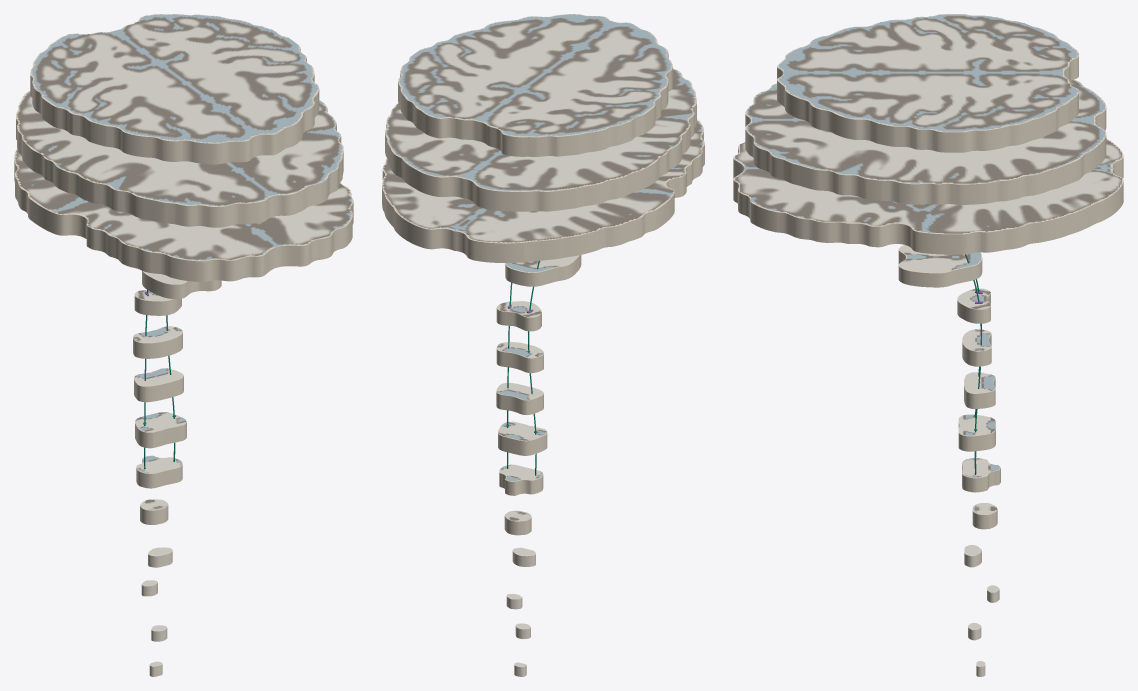
3 renders of one model, left to right at view 1: azimuth 30°, elevation 25°; view 2: azimuth 150°, elevation 25°; view 3: azimuth 270°, elevation 25°, orthographic. The views are drawn at different scales.
Visible parts, largest first — view 1: L15·切面（灰白质）, L14·切面（灰白质）, L13·切面（灰白质）, L13·背景·丘脑内囊, L14·背景·放射冠, L15·背景·皮质上部, L11·背景·下丘, L07·背景·橄榄中部, L09·背景·脑桥中部, L08·背景·脑桥下部, L06·背景·丘系交叉, L10·背景·脑桥上部 (+4 smaller); view 2: L15·切面（灰白质）, L14·切面（灰白质）, L13·切面（灰白质）, L13·背景·丘脑内囊, L14·背景·放射冠, L15·背景·皮质上部, L11·背景·下丘, L07·背景·橄榄中部, L09·背景·脑桥中部, L08·背景·脑桥下部, L10·背景·脑桥上部, L06·背景·丘系交叉 (+5 smaller); view 3: L15·切面（灰白质）, L14·切面（灰白质）, L13·切面（灰白质）, L13·背景·丘脑内囊, L14·背景·放射冠, L15·背景·皮质上部, L11·背景·下丘, L11·切面（灰白质）, L07·切面（灰白质）, L07·背景·橄榄中部, L06·背景·丘系交叉.
Boxes of the visible parts, bbox=[...] form: L15·切面（灰白质）: bbox=[31, 14, 318, 142]; L14·切面（灰白质）: bbox=[17, 91, 342, 206]; L13·切面（灰白质）: bbox=[15, 150, 352, 260]; L13·背景·丘脑内囊: bbox=[14, 148, 353, 281]; L14·背景·放射冠: bbox=[16, 91, 343, 227]; L15·背景·皮质上部: bbox=[30, 14, 319, 164]; L11·背景·下丘: bbox=[142, 271, 221, 299]; L07·背景·橄榄中部: bbox=[135, 413, 186, 448]; L09·背景·脑桥中部: bbox=[133, 329, 182, 358]; L08·背景·脑桥下部: bbox=[134, 373, 183, 402]; L06·背景·丘系交叉: bbox=[136, 458, 182, 488]; L10·背景·脑桥上部: bbox=[134, 293, 181, 315]; L15·切面（灰白质）: bbox=[399, 14, 671, 136]; L14·切面（灰白质）: bbox=[385, 68, 695, 191]; L13·切面（灰白质）: bbox=[383, 121, 703, 242]; L13·背景·丘脑内囊: bbox=[382, 119, 704, 263]; L14·背景·放射冠: bbox=[385, 68, 696, 211]; L15·背景·皮质上部: bbox=[398, 14, 672, 156]; L11·背景·下丘: bbox=[505, 255, 581, 286]; L07·背景·橄榄中部: bbox=[498, 423, 547, 455]; L09·背景·脑桥中部: bbox=[496, 344, 543, 373]; L08·背景·脑桥下部: bbox=[496, 384, 543, 415]; L10·背景·脑桥上部: bbox=[496, 304, 541, 331]; L06·背景·丘系交叉: bbox=[499, 467, 543, 495]; L15·切面（灰白质）: bbox=[779, 14, 1078, 131]; L14·切面（灰白质）: bbox=[747, 80, 1104, 183]; L13·切面（灰白质）: bbox=[735, 138, 1121, 233]; L13·背景·丘脑内囊: bbox=[733, 139, 1123, 254]; L14·背景·放射冠: bbox=[745, 79, 1106, 204]; L15·背景·皮质上部: bbox=[777, 14, 1078, 152]; L11·背景·下丘: bbox=[898, 245, 982, 287]; L11·切面（灰白质）: bbox=[900, 245, 980, 272]; L07·切面（灰白质）: bbox=[959, 414, 995, 435]; L07·背景·橄榄中部: bbox=[958, 418, 995, 451]; L06·背景·丘系交叉: bbox=[962, 460, 1000, 492].
Size of the model in its own units: 13.92 by 29.72 by 17.47.
